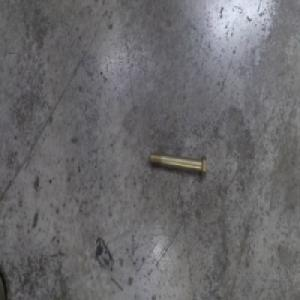Bolt: (147, 150, 207, 179)
